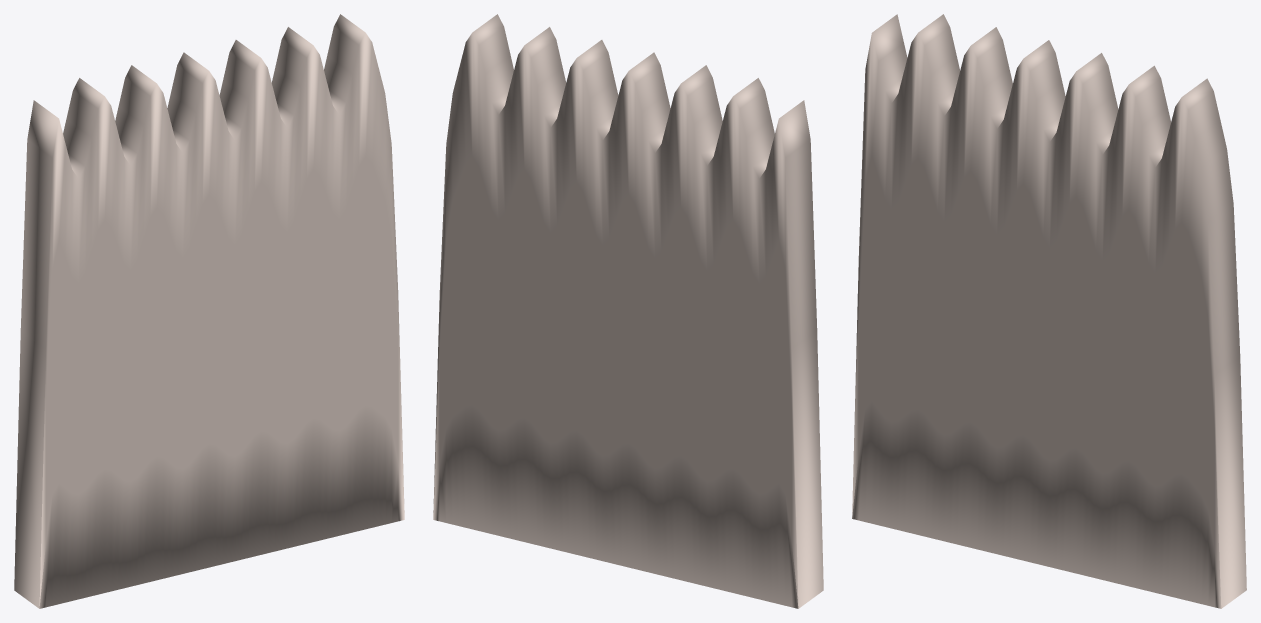
File: creature.finribbon.glb
3 renders of one model, left to right at view 1: azimuth 30°, elevation 25°; view 2: azimuth 150°, elevation 25°; view 3: azimuth 330°, elevation 25°, orthographic.
Parts seen in each view (by area): view 1: Fin; view 2: Fin; view 3: Fin.
Part boxes in pixels (<box>): Fin: <box>14,14,404,608</box>; Fin: <box>433,14,823,608</box>; Fin: <box>852,14,1246,608</box>.
Bounding box in the file's own units: 1 × 1.3 × 0.12.
